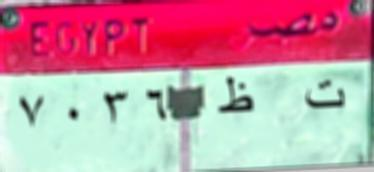0: (66, 102, 84, 128)
3: (102, 88, 130, 131)
6: (144, 86, 168, 123)
7: (15, 91, 48, 133)
Thaa: (217, 74, 256, 118)
taa: (299, 80, 351, 113)
